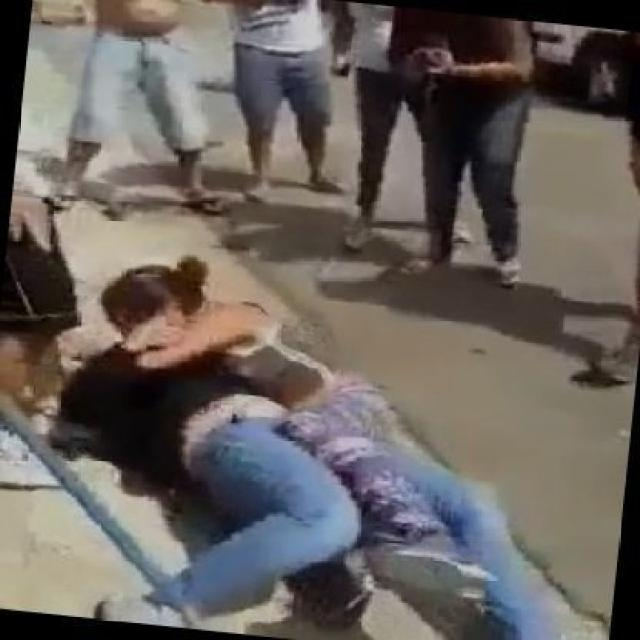fight: (40, 217, 638, 638)
non-fight: (17, 0, 254, 231)
